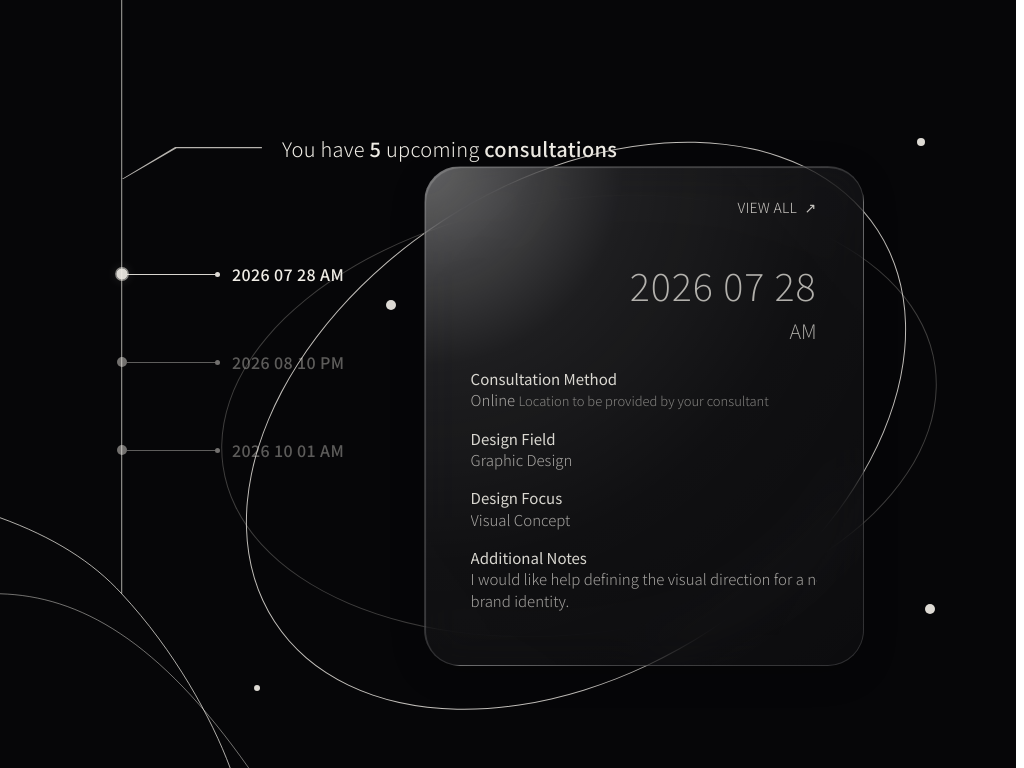
Scenario: AccountConsultations › opens a selected consultation from the date menu while viewing all consultations
Click the button "View all ↗" at (777, 208), box [738,197,817,218]
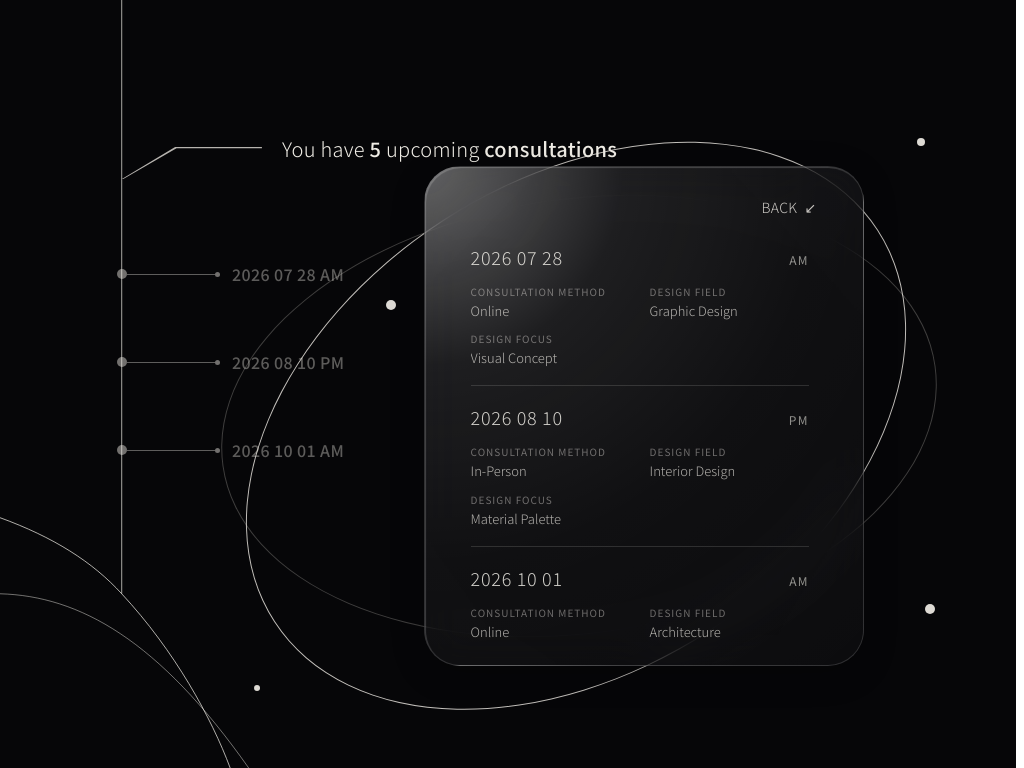
Click the button with class "date-node" showing "2026 10 01 AM" at (332, 450), box [122,406,542,494]
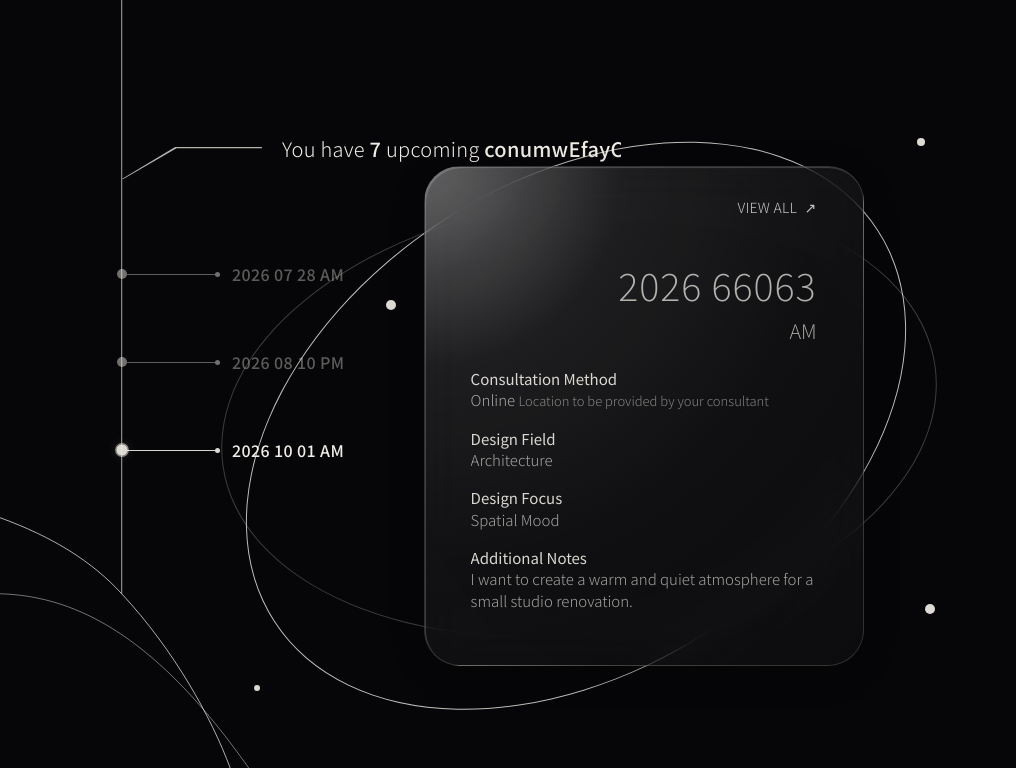
Check: the element with class "details-panel" shows "Architecture", box [471,449,553,470]
Check: the element with class "details-panel" shows "Spatial Mood", box [471,509,560,530]
